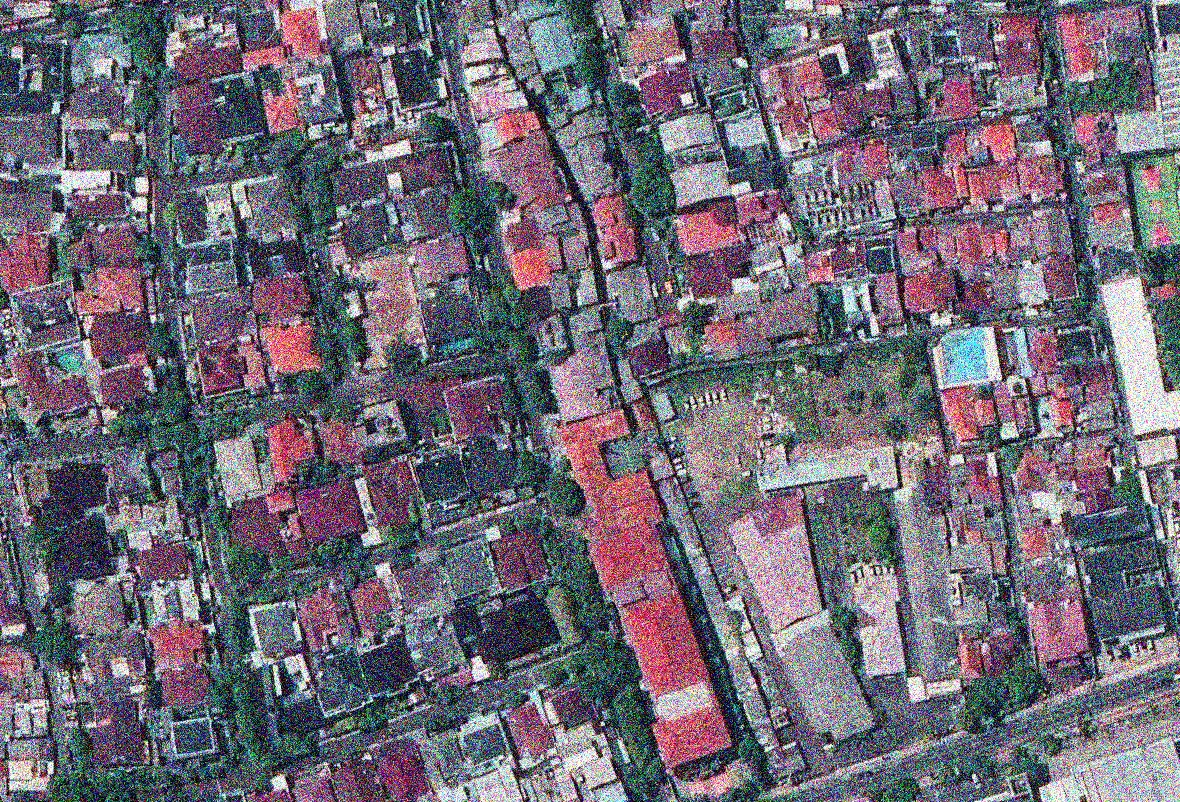building: (647, 450, 802, 771), (583, 520, 741, 776), (723, 485, 847, 636), (883, 486, 962, 706), (543, 405, 664, 545), (770, 611, 880, 751), (1096, 274, 1180, 441), (1074, 533, 1179, 650), (448, 579, 567, 681), (754, 442, 903, 516), (394, 369, 515, 454), (1040, 736, 1179, 802), (0, 343, 97, 431), (548, 111, 627, 209), (489, 127, 572, 212), (358, 453, 432, 548), (399, 612, 473, 703), (455, 424, 533, 510), (531, 199, 600, 295), (190, 333, 274, 411), (303, 642, 385, 721), (5, 279, 87, 357), (31, 457, 115, 531), (320, 200, 404, 274), (585, 189, 649, 286), (204, 427, 279, 509), (288, 579, 361, 661), (80, 346, 160, 420), (691, 46, 765, 126), (37, 519, 116, 593), (413, 275, 490, 350), (72, 631, 151, 704), (290, 475, 369, 547), (802, 182, 894, 243), (920, 327, 1005, 393), (1060, 500, 1168, 551), (578, 190, 643, 274), (82, 696, 154, 771), (850, 577, 902, 679), (492, 693, 560, 771), (69, 167, 145, 236), (410, 446, 476, 525), (0, 38, 69, 113), (609, 16, 687, 81), (670, 193, 746, 259), (228, 172, 297, 244), (435, 539, 502, 613), (556, 735, 630, 802), (560, 309, 616, 397), (166, 182, 236, 252), (342, 395, 411, 466), (352, 633, 421, 704), (342, 57, 396, 147), (1080, 166, 1135, 254), (257, 312, 326, 382), (1028, 601, 1096, 672), (257, 414, 321, 489), (344, 574, 408, 649), (386, 557, 455, 626), (486, 526, 553, 597), (885, 215, 956, 282), (182, 287, 254, 352), (226, 490, 288, 564), (362, 733, 428, 802), (902, 267, 975, 329), (451, 9, 509, 87), (245, 270, 316, 333), (660, 149, 731, 212), (541, 351, 602, 424), (387, 137, 460, 198), (534, 683, 601, 749), (645, 449, 697, 534), (174, 240, 248, 299), (410, 720, 471, 791), (108, 449, 180, 509), (452, 710, 517, 776), (701, 310, 776, 367), (169, 81, 222, 161), (242, 599, 303, 668), (287, 54, 344, 127), (755, 53, 826, 111), (211, 73, 265, 149), (612, 316, 674, 382), (500, 216, 553, 293), (72, 264, 146, 319), (0, 109, 67, 169), (240, 228, 315, 281), (634, 67, 700, 127), (388, 188, 455, 247), (498, 21, 548, 100), (117, 495, 186, 552), (83, 309, 152, 366), (64, 82, 142, 131), (684, 247, 755, 300), (244, 665, 291, 745), (169, 33, 241, 85), (403, 236, 470, 290), (254, 63, 304, 135), (70, 33, 135, 88), (0, 233, 54, 299), (602, 265, 658, 328), (64, 130, 145, 173), (0, 176, 59, 235), (1148, 34, 1178, 149), (386, 47, 438, 113), (719, 139, 778, 197), (649, 108, 716, 159), (523, 15, 577, 78), (969, 153, 1023, 215), (161, 704, 219, 761), (148, 618, 207, 674), (69, 584, 129, 638), (755, 288, 817, 340), (1020, 556, 1083, 606), (325, 160, 390, 208), (0, 677, 48, 739), (679, 20, 741, 68), (951, 223, 1006, 277), (1070, 113, 1121, 170), (838, 280, 882, 346), (768, 100, 816, 159), (1009, 158, 1070, 204), (992, 264, 1047, 315), (141, 580, 198, 629), (1098, 6, 1147, 63), (1056, 359, 1115, 406), (158, 665, 217, 712), (1, 739, 53, 792), (70, 229, 142, 267), (1009, 114, 1062, 164), (1004, 449, 1057, 499), (469, 79, 529, 123), (1009, 325, 1056, 381), (914, 165, 961, 220), (62, 169, 145, 200), (936, 386, 980, 443), (329, 758, 386, 802), (742, 214, 799, 258), (1011, 521, 1070, 563), (800, 92, 844, 148), (1029, 209, 1076, 261), (272, 695, 325, 741), (729, 184, 787, 226), (865, 28, 909, 82), (786, 153, 839, 197), (1114, 112, 1168, 154), (1039, 252, 1083, 303), (134, 544, 188, 585), (829, 84, 869, 139), (491, 103, 542, 146), (851, 81, 893, 133), (872, 275, 906, 339), (1092, 241, 1141, 285), (1051, 322, 1100, 366), (937, 73, 979, 124), (507, 247, 552, 294), (1009, 489, 1059, 531), (826, 238, 869, 285), (463, 769, 526, 801), (517, 184, 573, 220), (841, 36, 881, 86), (516, 766, 571, 802), (456, 27, 503, 69), (940, 123, 981, 171), (1069, 397, 1118, 437), (1058, 48, 1108, 87), (713, 285, 764, 323), (317, 418, 355, 468), (716, 112, 766, 150), (919, 457, 952, 514), (949, 542, 1004, 576), (815, 43, 853, 92), (990, 380, 1021, 440), (999, 37, 1045, 76), (275, 29, 324, 65), (958, 280, 998, 324), (1060, 14, 1110, 49), (0, 582, 29, 640), (975, 127, 1017, 167), (888, 175, 925, 220), (962, 512, 1010, 546), (855, 141, 891, 186), (1133, 435, 1180, 469), (533, 312, 569, 356), (943, 453, 999, 481), (326, 22, 365, 62), (1001, 79, 1048, 112), (290, 770, 338, 802), (982, 773, 1034, 802), (829, 142, 864, 185), (1070, 440, 1118, 471), (909, 127, 942, 172), (1068, 461, 1113, 494), (800, 249, 835, 291), (1072, 484, 1116, 516), (0, 642, 35, 682), (754, 266, 794, 301), (961, 479, 1004, 511), (520, 284, 555, 322), (887, 80, 917, 124), (928, 30, 960, 71), (952, 569, 1009, 592), (1048, 384, 1075, 432), (748, 242, 786, 276), (1001, 226, 1034, 265), (661, 320, 693, 359), (560, 232, 590, 273), (358, 30, 408, 54), (239, 48, 284, 74), (864, 235, 892, 276), (959, 28, 996, 59), (627, 397, 658, 434), (648, 389, 679, 426), (966, 396, 999, 430), (572, 268, 600, 307), (563, 83, 596, 116), (885, 137, 915, 173), (546, 272, 573, 312), (534, 202, 571, 231), (906, 29, 930, 73), (544, 100, 575, 134), (476, 119, 505, 155), (995, 18, 1033, 41), (284, 538, 312, 569), (785, 259, 811, 292), (262, 491, 294, 516), (656, 306, 684, 331), (252, 790, 294, 802), (367, 549, 393, 567), (620, 360, 626, 387)
tree: (573, 622, 643, 696), (618, 136, 675, 223), (23, 617, 87, 680), (962, 670, 1019, 727), (994, 657, 1049, 714), (437, 184, 492, 240), (1147, 299, 1180, 389), (602, 96, 656, 149), (536, 471, 591, 522), (245, 732, 315, 772), (261, 125, 311, 177), (556, 554, 601, 610), (18, 519, 65, 572), (143, 385, 194, 433), (605, 682, 651, 734), (535, 519, 572, 583), (1069, 87, 1138, 121), (196, 407, 248, 451), (221, 544, 270, 589), (514, 363, 555, 416), (103, 407, 154, 449), (829, 607, 862, 670), (110, 4, 166, 41), (615, 759, 657, 802), (574, 25, 602, 89), (862, 772, 921, 802), (479, 177, 521, 219), (650, 218, 686, 267), (598, 314, 639, 357), (1104, 468, 1145, 510), (949, 698, 989, 740), (620, 723, 658, 766), (863, 517, 896, 566), (306, 324, 346, 364), (377, 338, 417, 378), (1139, 246, 1178, 285), (729, 734, 767, 774), (286, 367, 326, 404), (125, 88, 163, 126), (349, 702, 389, 738), (933, 755, 978, 787), (476, 286, 511, 327), (339, 312, 366, 363), (227, 593, 248, 658), (510, 450, 546, 487), (130, 33, 158, 80), (88, 773, 133, 802), (46, 778, 100, 802), (899, 337, 931, 377), (298, 459, 341, 488), (336, 560, 377, 590), (412, 108, 447, 143), (497, 378, 523, 424), (180, 436, 214, 471), (576, 597, 610, 632), (251, 63, 282, 101), (678, 300, 712, 334), (0, 412, 35, 445), (200, 682, 233, 717), (503, 300, 538, 333), (718, 777, 763, 802), (638, 754, 671, 788), (573, 672, 605, 707), (967, 750, 999, 783), (993, 441, 1025, 474), (121, 768, 155, 799), (493, 274, 524, 308), (151, 362, 186, 392), (854, 342, 903, 363), (736, 15, 769, 46), (449, 361, 505, 379), (231, 709, 256, 749), (328, 537, 368, 562), (144, 324, 173, 358), (814, 349, 848, 377), (606, 78, 633, 113), (168, 422, 199, 452), (465, 327, 495, 358), (562, 1, 590, 34), (142, 765, 173, 794), (1087, 320, 1115, 352), (429, 687, 469, 709), (421, 711, 456, 736), (308, 200, 338, 229), (423, 406, 452, 436), (307, 154, 339, 181), (307, 175, 333, 208), (128, 236, 157, 265), (63, 729, 93, 757), (747, 762, 775, 792), (463, 229, 489, 260), (181, 462, 210, 489), (788, 346, 817, 373), (273, 164, 303, 190), (1004, 748, 1030, 778), (507, 333, 532, 364), (267, 553, 295, 580), (484, 320, 512, 347), (561, 652, 588, 680), (43, 585, 73, 610), (289, 201, 313, 232), (896, 362, 915, 401), (141, 676, 164, 708), (183, 484, 211, 510), (209, 665, 237, 691), (914, 392, 940, 420), (978, 425, 1004, 453), (1035, 49, 1058, 80), (318, 401, 355, 420), (376, 525, 400, 554), (845, 508, 874, 532), (1073, 276, 1097, 305), (71, 750, 93, 781), (229, 660, 255, 686), (393, 522, 418, 549), (842, 391, 866, 419), (882, 419, 911, 442), (499, 690, 529, 712), (133, 154, 158, 180), (61, 17, 86, 42), (206, 503, 232, 527), (718, 95, 745, 118), (145, 429, 173, 451), (228, 682, 249, 711), (251, 585, 276, 609), (308, 544, 333, 568), (562, 581, 580, 614), (154, 62, 178, 86), (817, 400, 841, 424), (327, 275, 352, 298), (1119, 66, 1141, 92), (757, 43, 784, 64), (1060, 136, 1082, 161), (794, 218, 815, 244), (157, 203, 180, 226), (540, 665, 563, 688), (567, 615, 589, 639), (540, 349, 568, 367), (867, 391, 889, 413), (621, 208, 642, 231), (1062, 297, 1086, 317), (331, 295, 350, 320), (515, 513, 541, 531), (590, 694, 612, 715), (247, 776, 272, 794), (205, 761, 226, 782), (240, 138, 262, 158), (392, 550, 414, 570), (285, 582, 314, 597), (46, 2, 66, 23), (1104, 68, 1124, 89), (220, 720, 240, 740), (433, 538, 455, 556), (871, 499, 888, 522), (63, 220, 83, 239), (375, 615, 394, 635), (108, 530, 127, 549), (215, 754, 233, 773), (159, 790, 186, 802), (56, 267, 77, 282), (27, 30, 46, 46), (166, 244, 182, 263), (495, 519, 512, 536), (1075, 263, 1092, 280), (313, 225, 330, 241), (181, 767, 197, 783), (1092, 80, 1109, 95), (11, 790, 31, 802), (226, 739, 240, 755), (318, 126, 333, 140), (234, 1, 249, 15), (195, 767, 208, 782), (326, 368, 339, 382), (573, 539, 586, 553), (340, 464, 356, 475), (164, 124, 177, 137), (463, 496, 477, 508), (181, 165, 194, 177), (1067, 86, 1079, 97), (254, 0, 265, 11), (164, 163, 175, 172), (0, 39, 7, 52)
